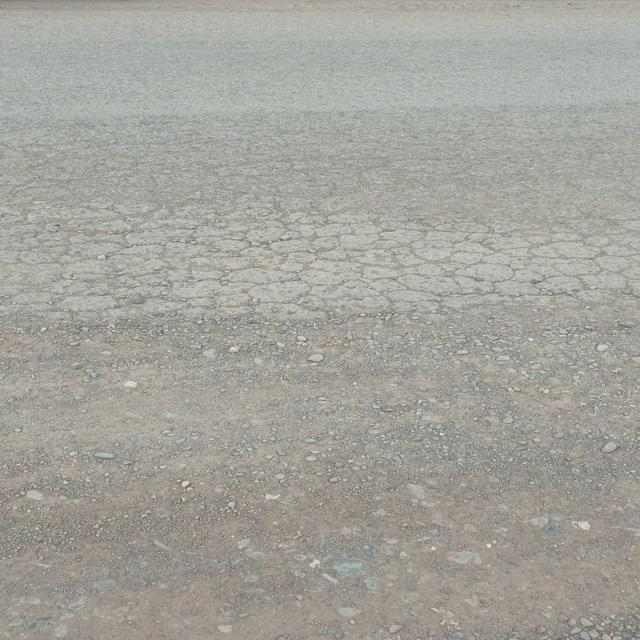Retak Buaya: (16, 206, 640, 321)
